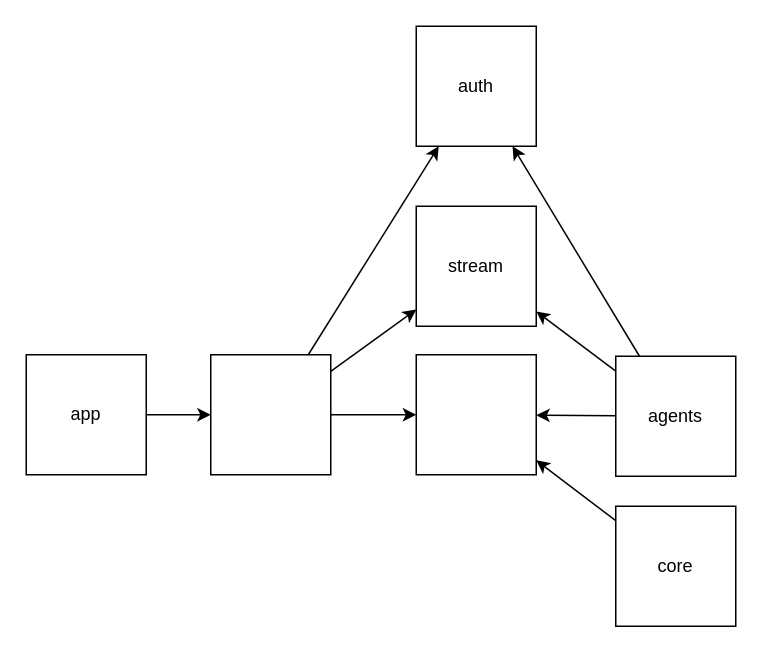
This 762x653 diagram has some shape labels left out. Here are the shapes that lost their labels. From the top down, the centre of each, then its label:
At point 270,414: "api".
At point 475,414: "broker".
